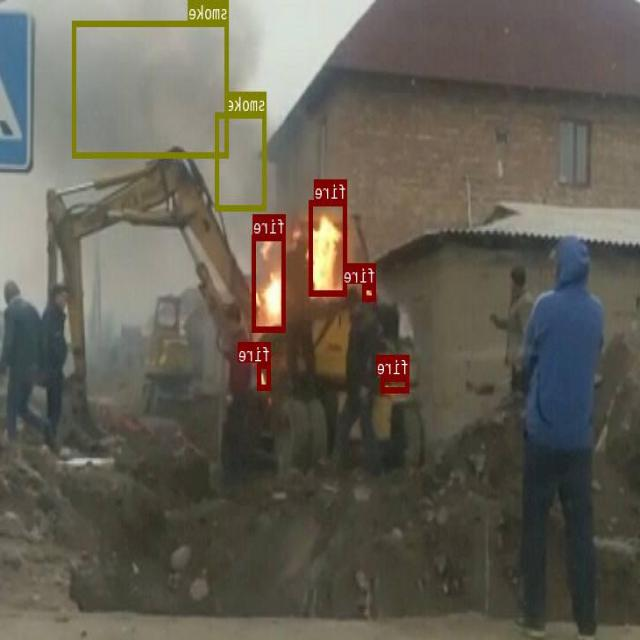fire: (310, 199, 348, 295), (253, 234, 286, 331), (382, 375, 410, 392), (258, 362, 272, 388), (364, 283, 377, 300)
smoke: (74, 19, 230, 157), (216, 112, 267, 210)
